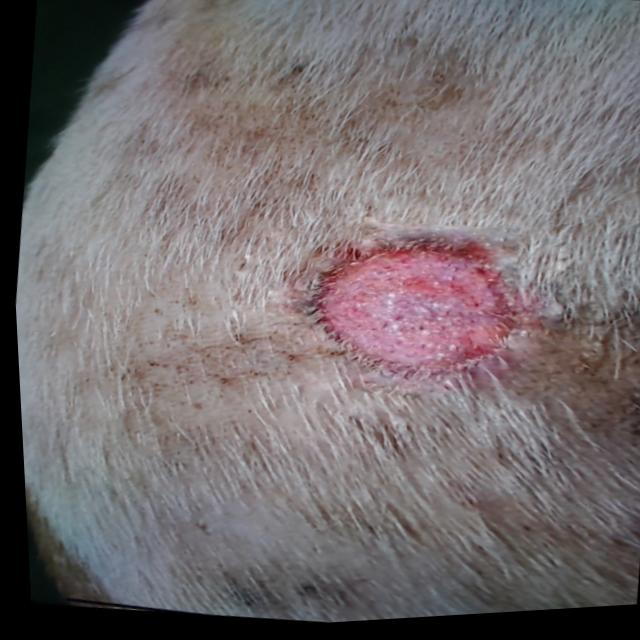ringworm: (278, 216, 555, 405)
